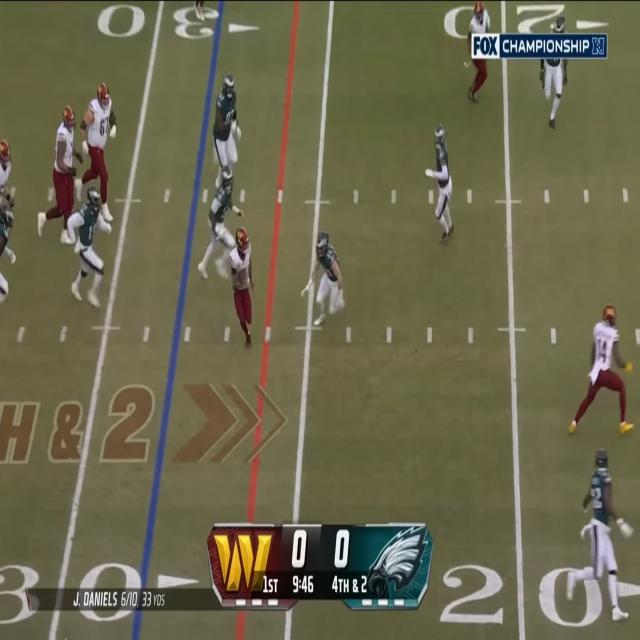Ball: (237, 270, 248, 288)
